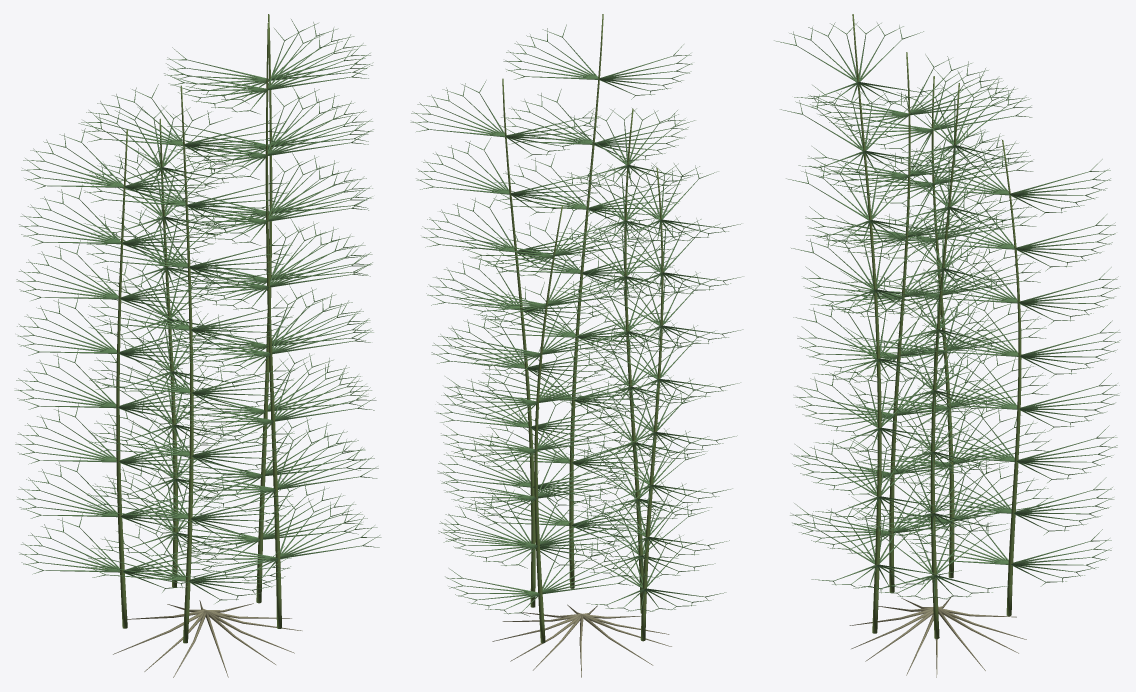
The model's file is cabomba-mobile.glb.
3 views of the same model, side by side, from view 1: azimuth 30°, elevation 25°; view 2: azimuth 150°, elevation 25°; view 3: azimuth 270°, elevation 25° (orthographic). The views are drawn at different scales.
Visible parts, largest first — view 1: dissected-leaf-ray, pinnule, branching-stem, anchoring-root; view 2: dissected-leaf-ray, pinnule, branching-stem, anchoring-root; view 3: dissected-leaf-ray, pinnule, branching-stem, anchoring-root.
Part boxes in pixels (bbox=[...]): dissected-leaf-ray: bbox=[34, 33, 361, 599]; pinnule: bbox=[14, 19, 381, 603]; branching-stem: bbox=[116, 14, 281, 643]; anchoring-root: bbox=[113, 600, 302, 677]; dissected-leaf-ray: bbox=[428, 37, 722, 612]; pinnule: bbox=[410, 24, 743, 616]; branching-stem: bbox=[502, 14, 663, 643]; anchoring-root: bbox=[492, 604, 671, 677]; dissected-leaf-ray: bbox=[796, 34, 1102, 596]; pinnule: bbox=[774, 22, 1120, 599]; branching-stem: bbox=[852, 14, 1021, 638]; anchoring-root: bbox=[849, 595, 1026, 677].
Size of the model in its own units: 0.5095 by 0.9243 by 0.462.
